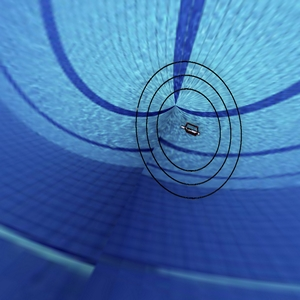circle: (133, 57, 247, 206)
submarine: (178, 114, 208, 151)
